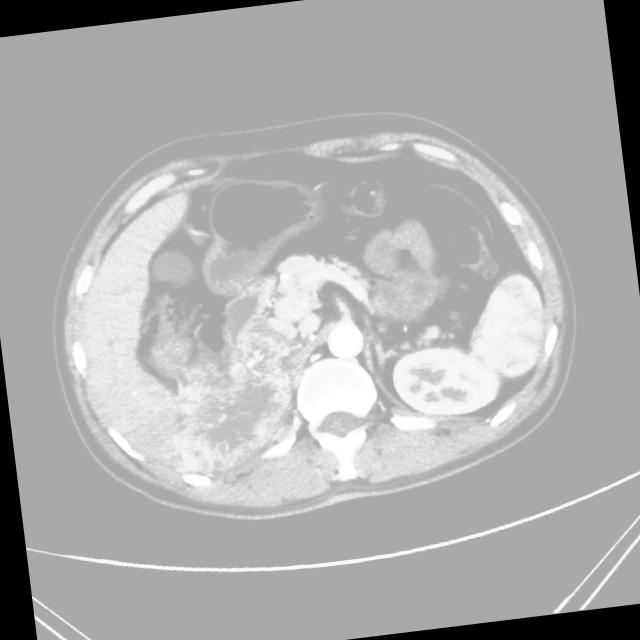TUMOR: (59, 170, 557, 431)
